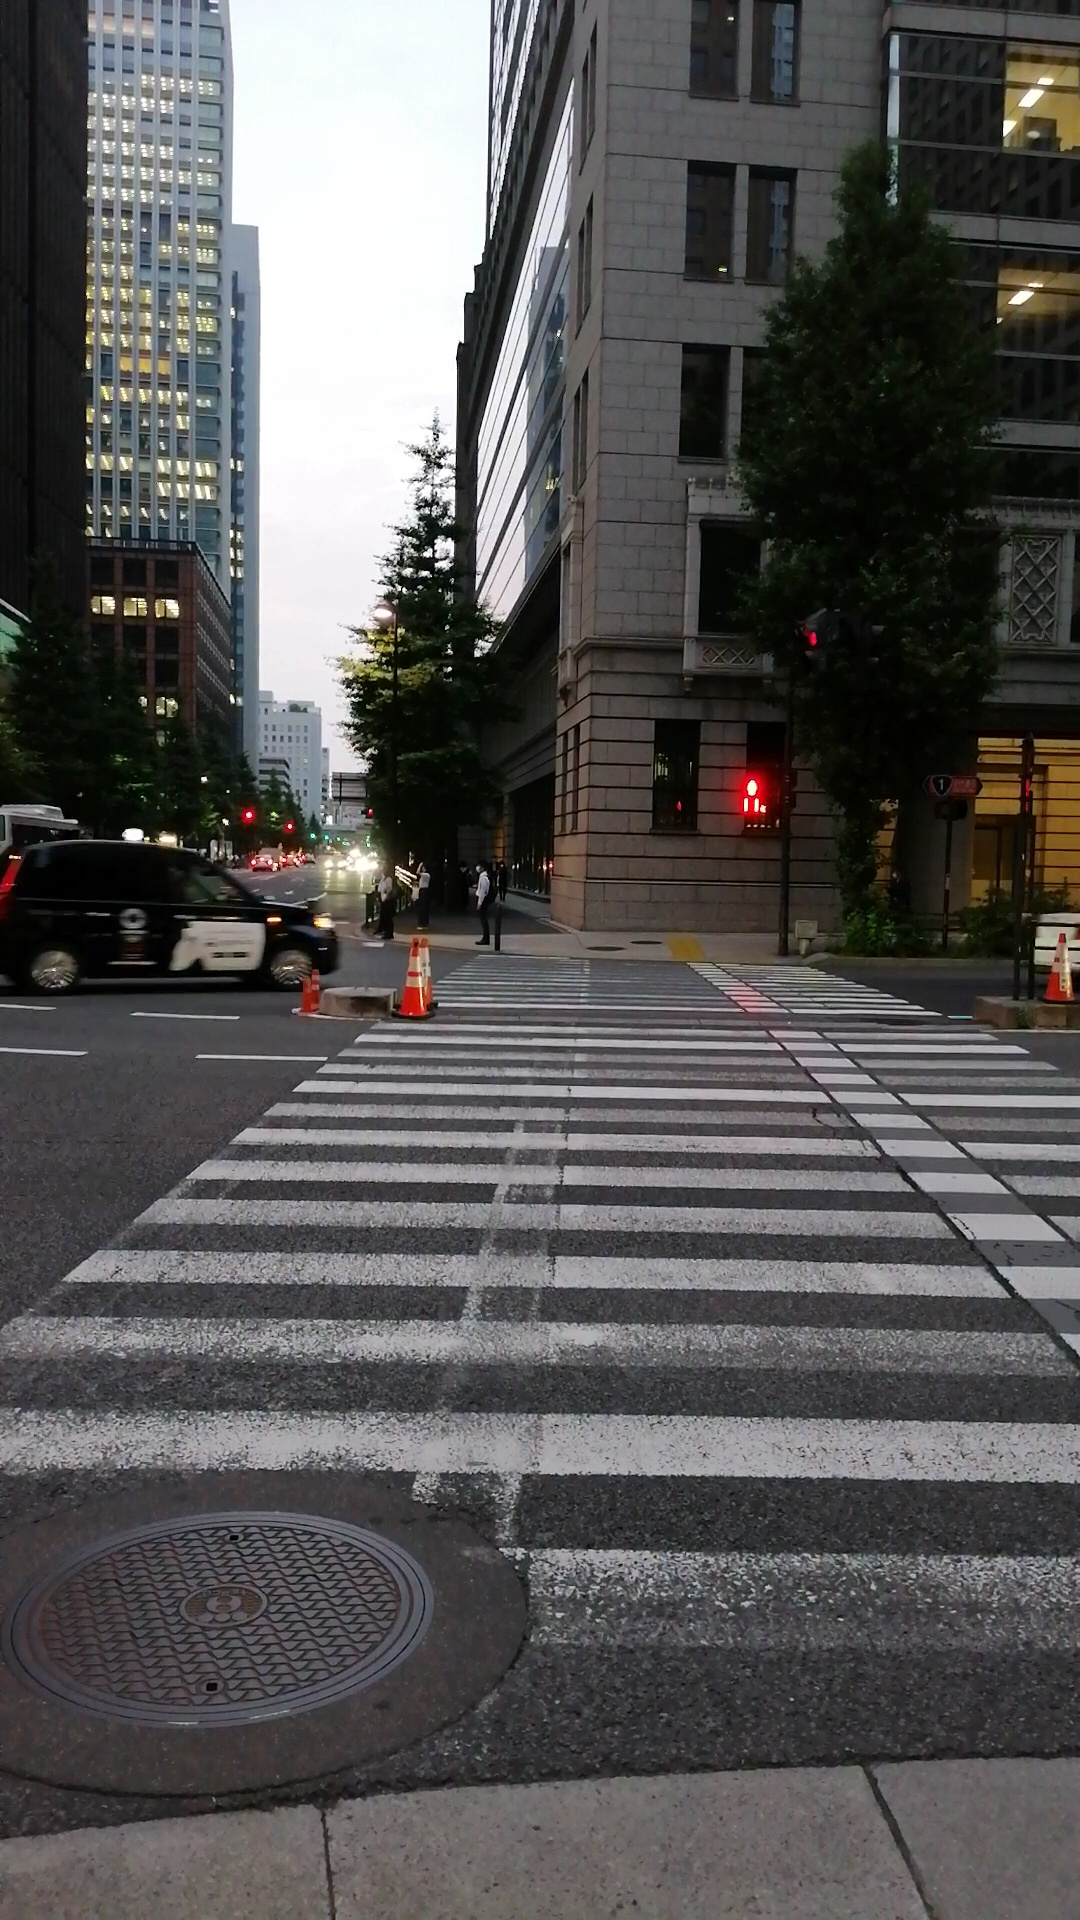red: (738, 774, 761, 814)
